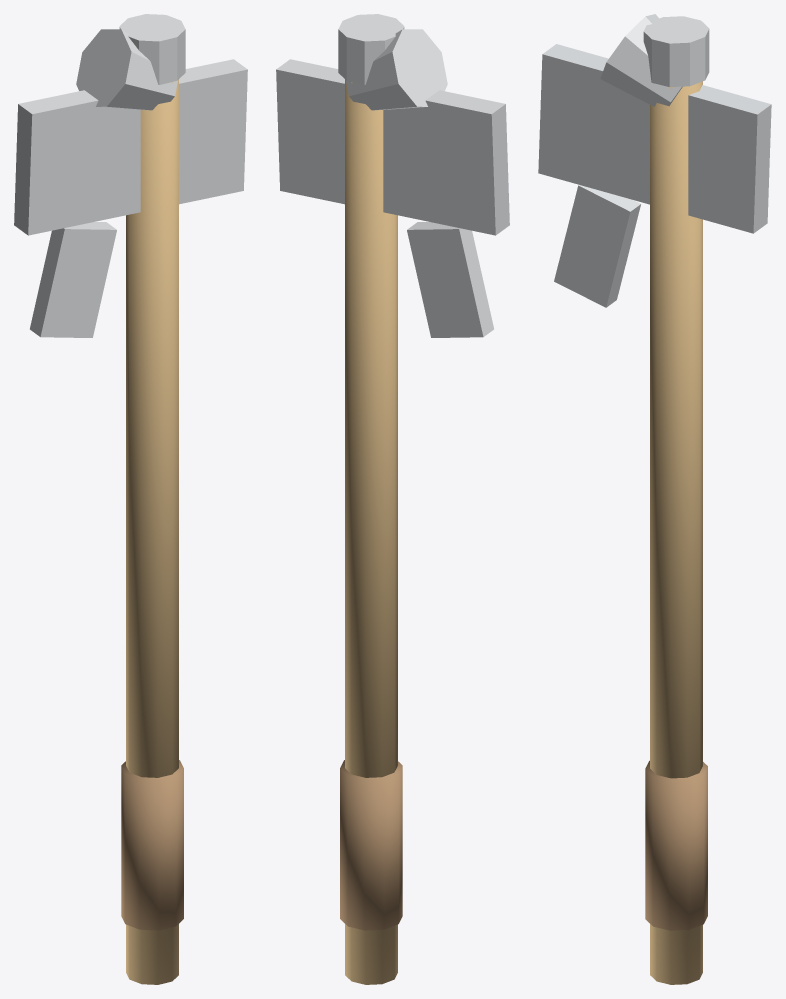
File: tool_hoe.fbx
The picture shows the model from 3 angles, left to right: view 1: azimuth 30°, elevation 25°; view 2: azimuth 150°, elevation 25°; view 3: azimuth 330°, elevation 25°; orthographic projection.
Parts seen in each view (by area): view 1: TOOL_hoe; view 2: TOOL_hoe; view 3: TOOL_hoe.
Boxes of the visible parts, x1=… form: TOOL_hoe: x1=14, y1=14, x2=247, y2=984; TOOL_hoe: x1=276, y1=14, x2=509, y2=984; TOOL_hoe: x1=538, y1=14, x2=771, y2=984.
Bounding box in the file's own units: 30.54 × 127 × 10.4.
